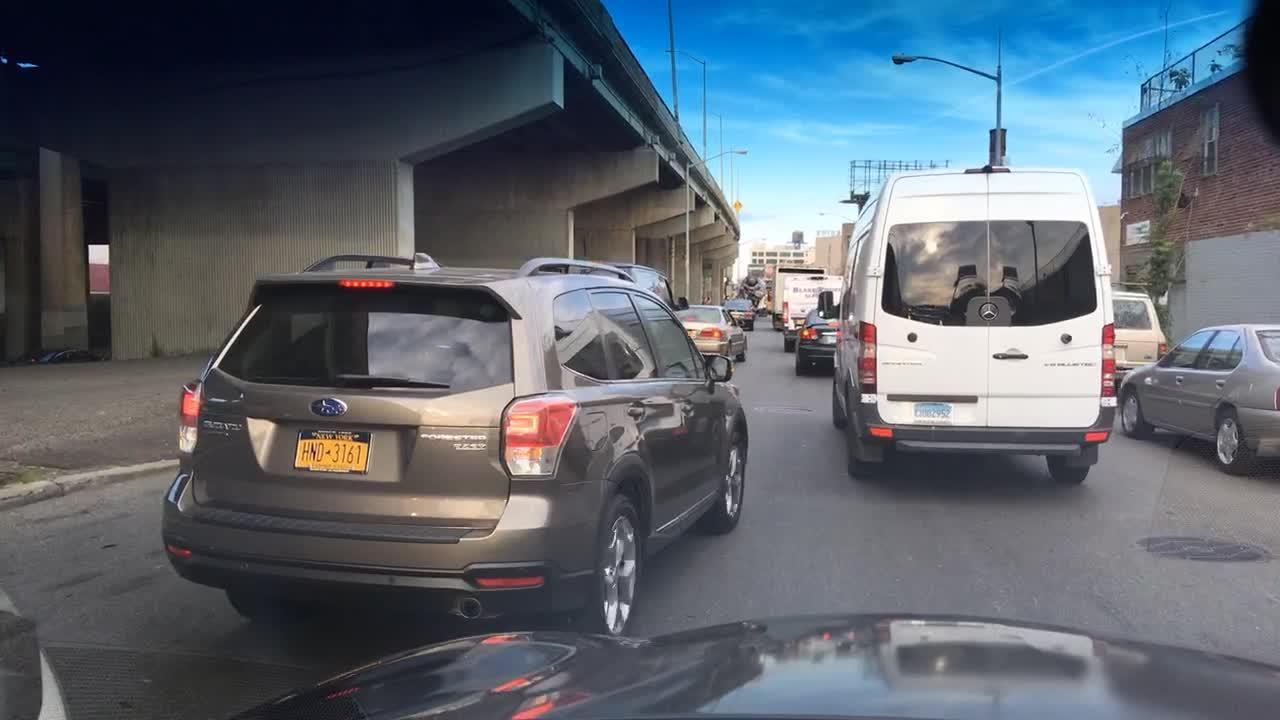Mercedes: (978, 298, 1002, 320)
subaru: (302, 383, 368, 430)
